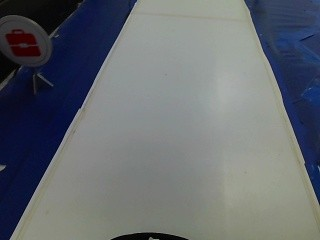company: (0, 14, 55, 69)
